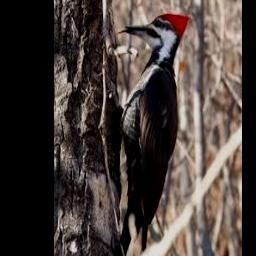Woodpecker: (116, 14, 189, 256)
